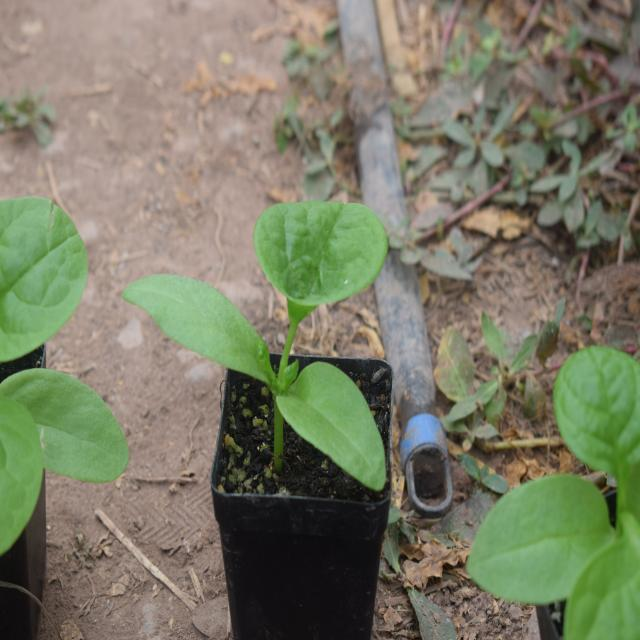Ceylon spinach: (125, 190, 420, 492)
